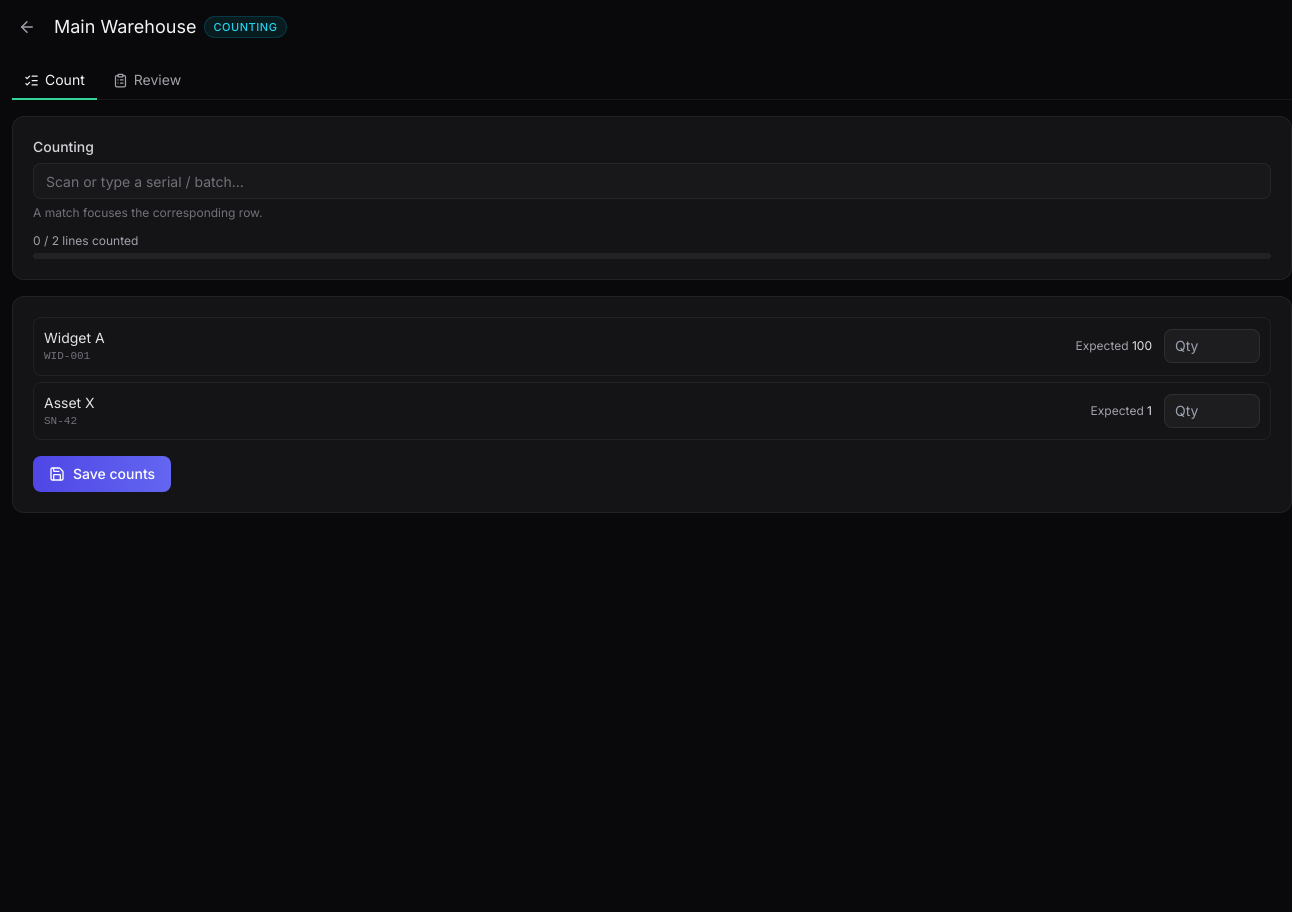
it: StocktakeView — review tab › shows only variance rows with surplus/shortfall badge
Click the button with test id "tab-review" at x=147, y=81, box [101, 62, 193, 100]
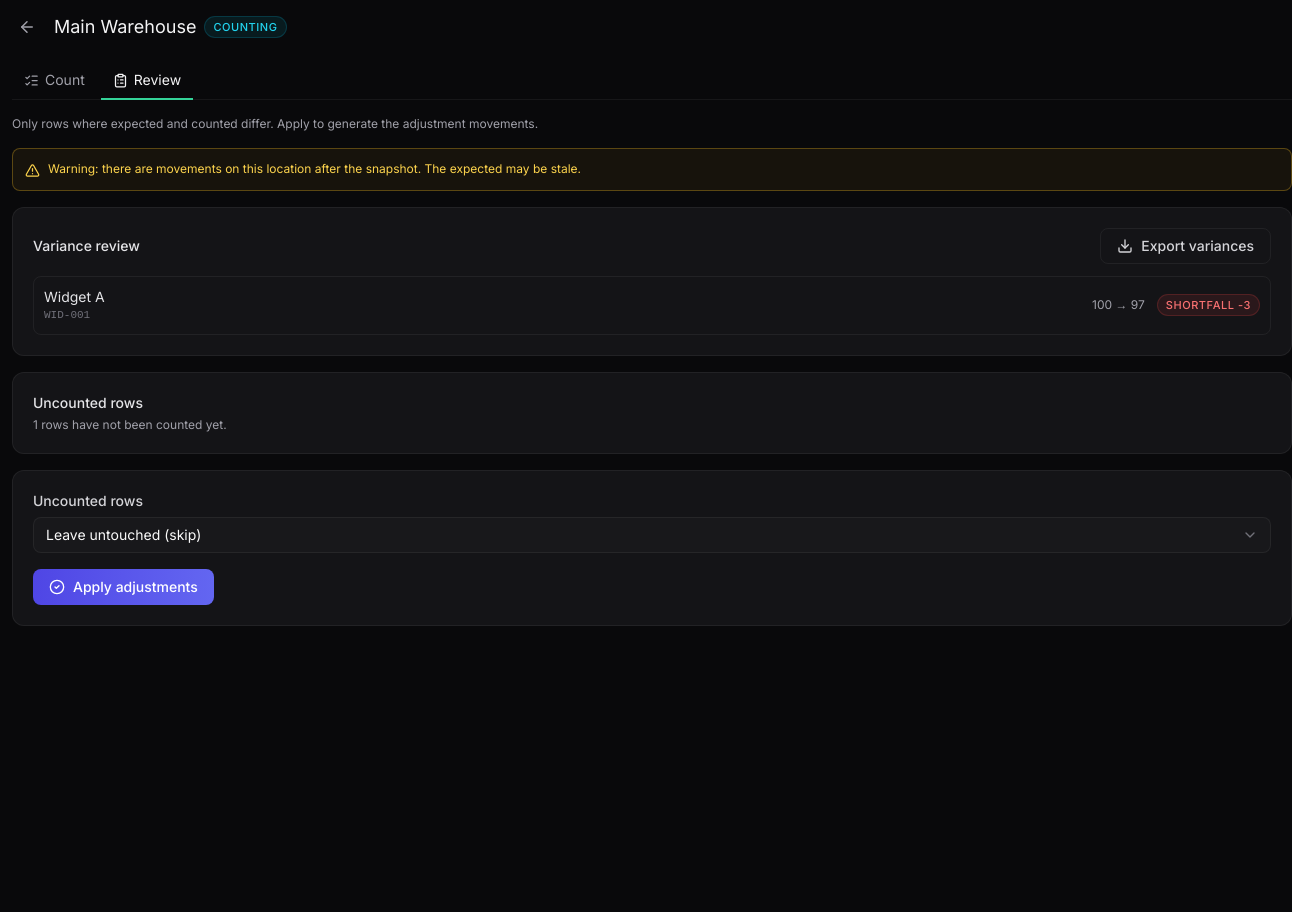
Expected: the element with test id "variance-line-bulk" is shown, [33, 276, 1271, 334]
Expected: the text "Shortfall -3" is shown, [1157, 294, 1260, 316]
